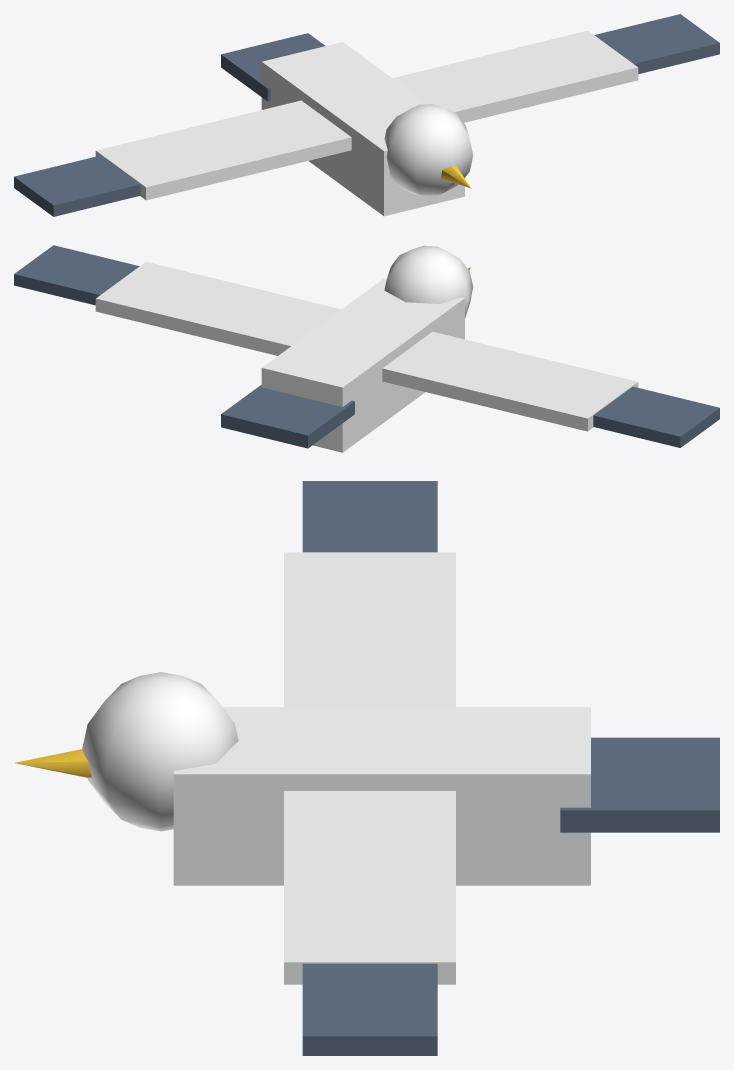
File: seagull.glb
3 views of the same model, one above another, from view 1: azimuth 30°, elevation 25°; view 2: azimuth 150°, elevation 25°; view 3: azimuth 270°, elevation 25° (orthographic). The views are drawn at different scales.
Visible parts, largest first — view 1: torso, rightInner, leftInner, head, rightTip, leftTip, tail, beak; view 2: torso, rightInner, leftInner, tail, rightTip, leftTip, head; view 3: torso, leftInner, rightInner, head, tail, leftTip, rightTip, beak.
Boxes of the visible parts, bbox=[...] form: torso: bbox=[261, 42, 464, 216]; rightInner: bbox=[95, 100, 351, 200]; leftInner: bbox=[392, 30, 638, 122]; head: bbox=[384, 104, 473, 196]; rightTip: bbox=[14, 155, 140, 216]; leftTip: bbox=[594, 14, 719, 74]; tail: bbox=[221, 33, 325, 101]; beak: bbox=[441, 166, 470, 188]; torso: bbox=[261, 278, 464, 452]; rightInner: bbox=[382, 331, 638, 431]; leftInner: bbox=[95, 261, 341, 355]; tail: bbox=[221, 385, 354, 448]; rightTip: bbox=[593, 386, 719, 447]; leftTip: bbox=[14, 245, 139, 305]; head: bbox=[384, 245, 473, 317]; torso: bbox=[173, 707, 590, 885]; leftInner: bbox=[284, 791, 455, 984]; rightInner: bbox=[284, 552, 455, 706]; head: bbox=[82, 672, 238, 831]; tail: bbox=[560, 737, 719, 832]; leftTip: bbox=[302, 963, 437, 1055]; rightTip: bbox=[302, 481, 437, 552]; beak: bbox=[15, 749, 91, 777].
Bounding box in the file's own units: 2.14 × 0.31 × 1.15.
